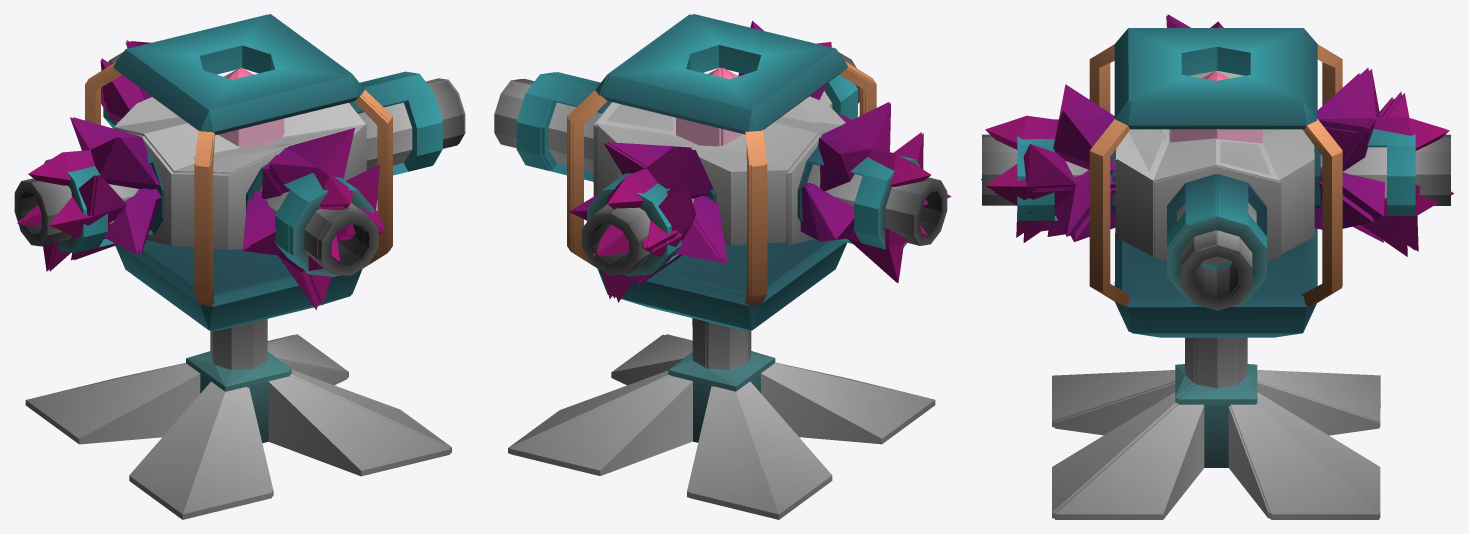
File: Asset_LaserCañon_MeshUnido.fbx
The picture shows the model from 3 angles, left to right: view 1: azimuth 30°, elevation 25°; view 2: azimuth 150°, elevation 25°; view 3: azimuth 270°, elevation 25°; orthographic projection. The views are drawn at different scales.
Visible parts, largest first — view 1: laserCañon_T_mesh_unido, laserCañon_normal_mesh_unido, laserCañon_X_mesh_unido, laserCañon_L_mesh_unido, laserCañon_I_mesh_unido; view 2: laserCañon_I_mesh_unido, laserCañon_normal_mesh_unido, laserCañon_T_mesh_unido, laserCañon_X_mesh_unido, laserCañon_L_mesh_unido; view 3: laserCañon_normal_mesh_unido, laserCañon_X_mesh_unido, laserCañon_T_mesh_unido, laserCañon_I_mesh_unido, laserCañon_L_mesh_unido.
Part boxes in pixels (bbox=[...]): laserCañon_T_mesh_unido: bbox=[14, 16, 463, 519]; laserCañon_normal_mesh_unido: bbox=[49, 14, 465, 496]; laserCañon_X_mesh_unido: bbox=[21, 15, 463, 448]; laserCañon_L_mesh_unido: bbox=[17, 15, 463, 302]; laserCañon_I_mesh_unido: bbox=[14, 14, 414, 481]; laserCañon_I_mesh_unido: bbox=[511, 16, 947, 519]; laserCañon_normal_mesh_unido: bbox=[494, 14, 921, 497]; laserCañon_T_mesh_unido: bbox=[516, 14, 935, 518]; laserCañon_X_mesh_unido: bbox=[514, 14, 940, 343]; laserCañon_L_mesh_unido: bbox=[515, 15, 951, 303]; laserCañon_normal_mesh_unido: bbox=[981, 15, 1454, 519]; laserCañon_X_mesh_unido: bbox=[982, 28, 1450, 518]; laserCañon_T_mesh_unido: bbox=[990, 28, 1392, 518]; laserCañon_I_mesh_unido: bbox=[993, 28, 1407, 518]; laserCañon_L_mesh_unido: bbox=[1046, 14, 1445, 297].
Size of the model in its own units: 50.44 by 41.75 by 46.53.
